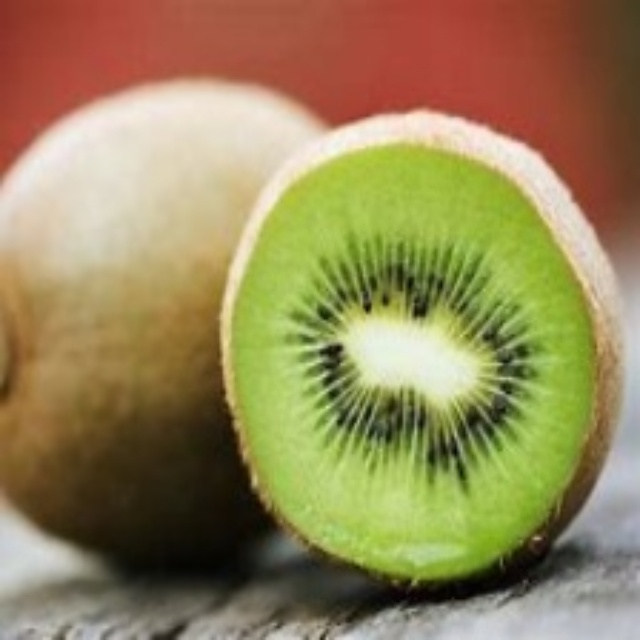kiwi: (219, 112, 616, 583), (9, 89, 348, 562)
